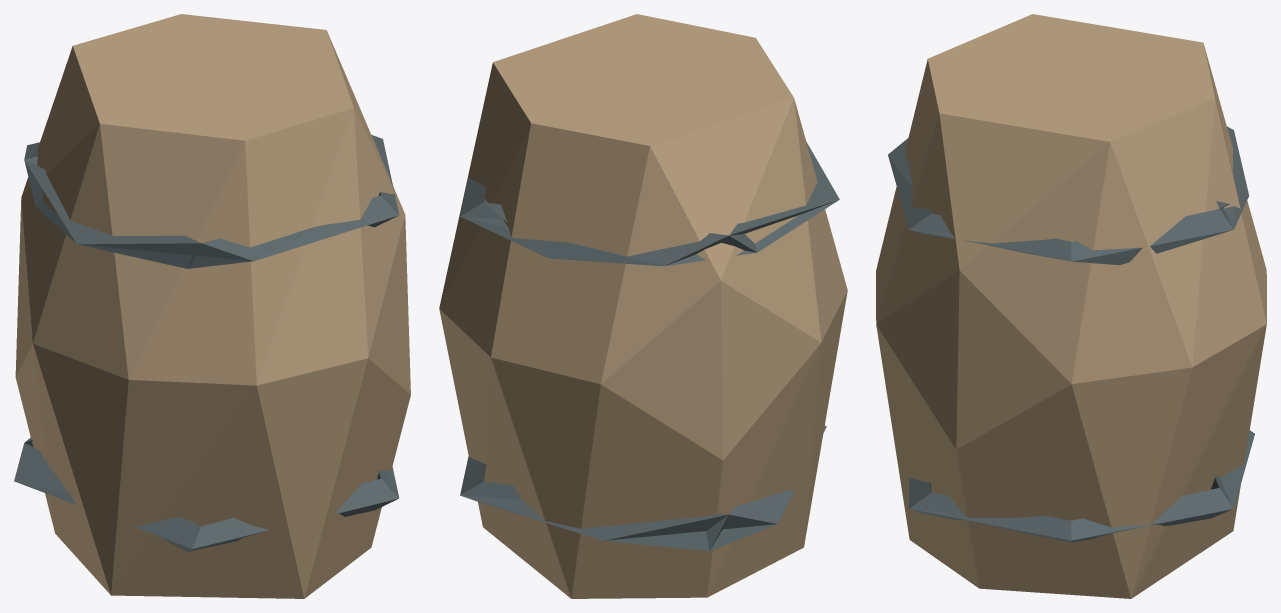
Rendered from beach.barrel.lod1.glb.
3 renders of one model, left to right at view 1: azimuth 30°, elevation 25°; view 2: azimuth 150°, elevation 25°; view 3: azimuth 270°, elevation 25°, orthographic.
Parts seen in each view (by area): view 1: Staves, Hoop.001, Hoop; view 2: Staves, Hoop, Hoop.001; view 3: Staves, Hoop.001, Hoop.
Part boxes in pixels (<box>): Staves: <box>15,14,410,598</box>; Hoop.001: <box>24,135,399,268</box>; Hoop: <box>14,437,399,551</box>; Staves: <box>439,14,847,598</box>; Hoop: <box>460,425,826,551</box>; Hoop.001: <box>460,142,839,266</box>; Staves: <box>876,14,1266,598</box>; Hoop.001: <box>888,126,1249,265</box>; Hoop: <box>909,430,1254,542</box>.
Size of the model in its own units: 0.734 by 0.9018 by 0.6982.
